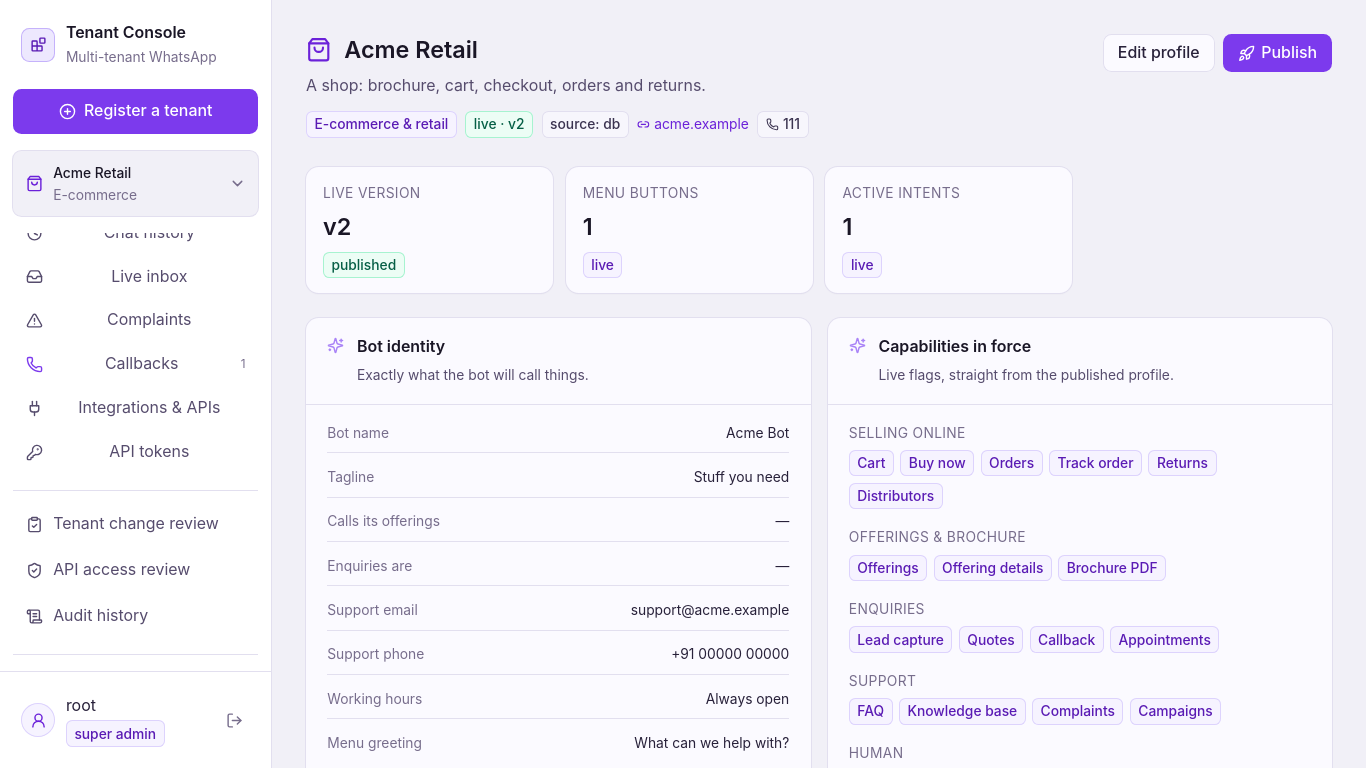
Test: sidebar navigation › navigates between views via the sidebar
(page scrolled)
Click the button "API tokens" at (136, 452), box [13, 431, 258, 473]
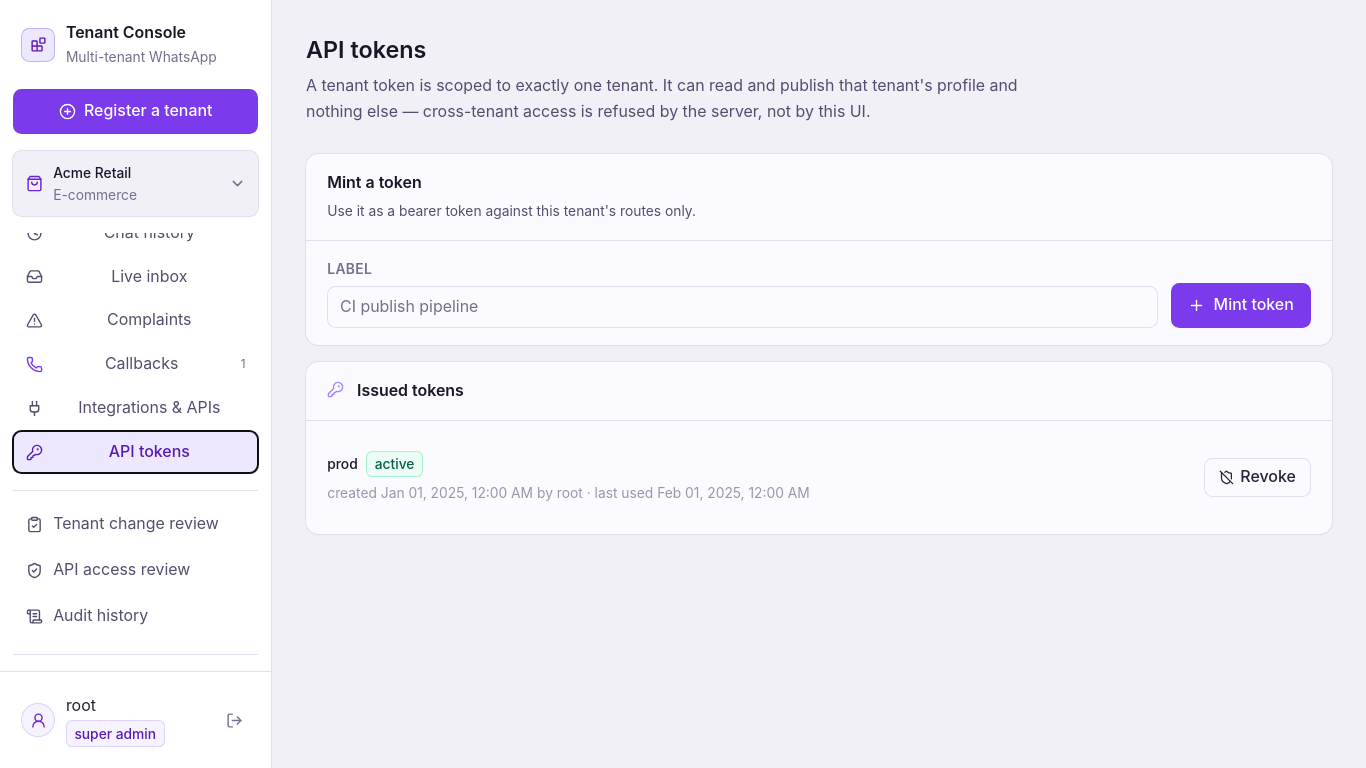
Result: the heading "API tokens" is shown at [306, 35, 426, 64]
